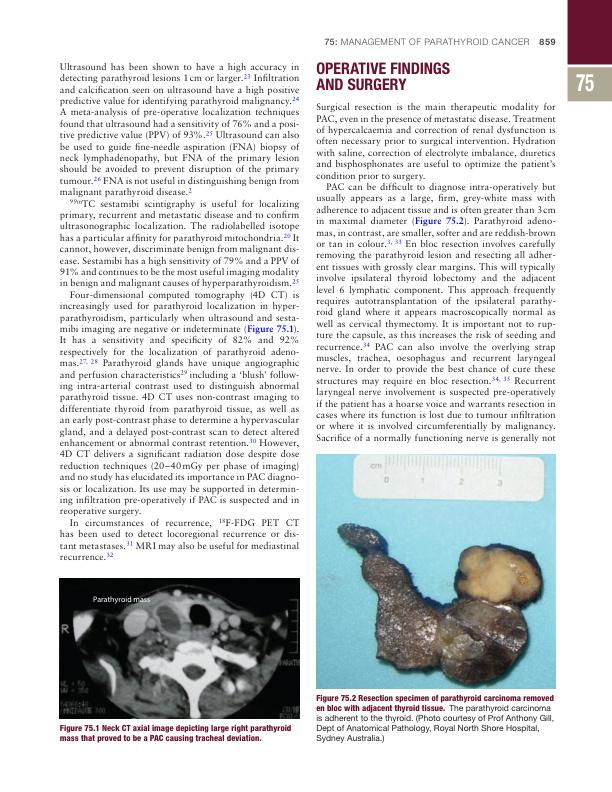caption: (315, 693, 555, 744), (59, 724, 292, 744)
header: (323, 37, 531, 47)
image: (316, 453, 557, 690), (58, 576, 301, 720)
section-heading: (315, 60, 452, 92)
text: (58, 61, 300, 562), (315, 101, 557, 444)
